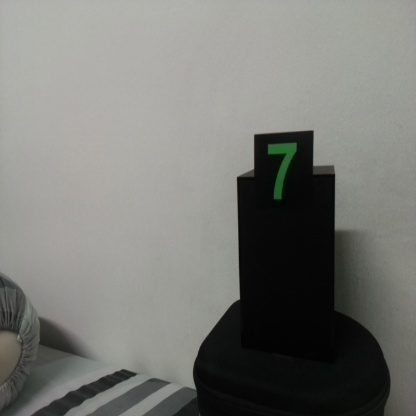id_7: (256, 134, 313, 226)
